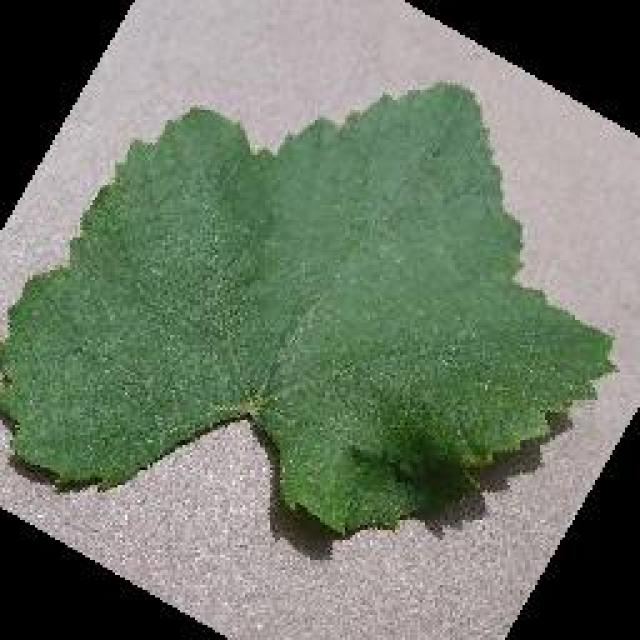Grape___healthy: (0, 73, 630, 545)
